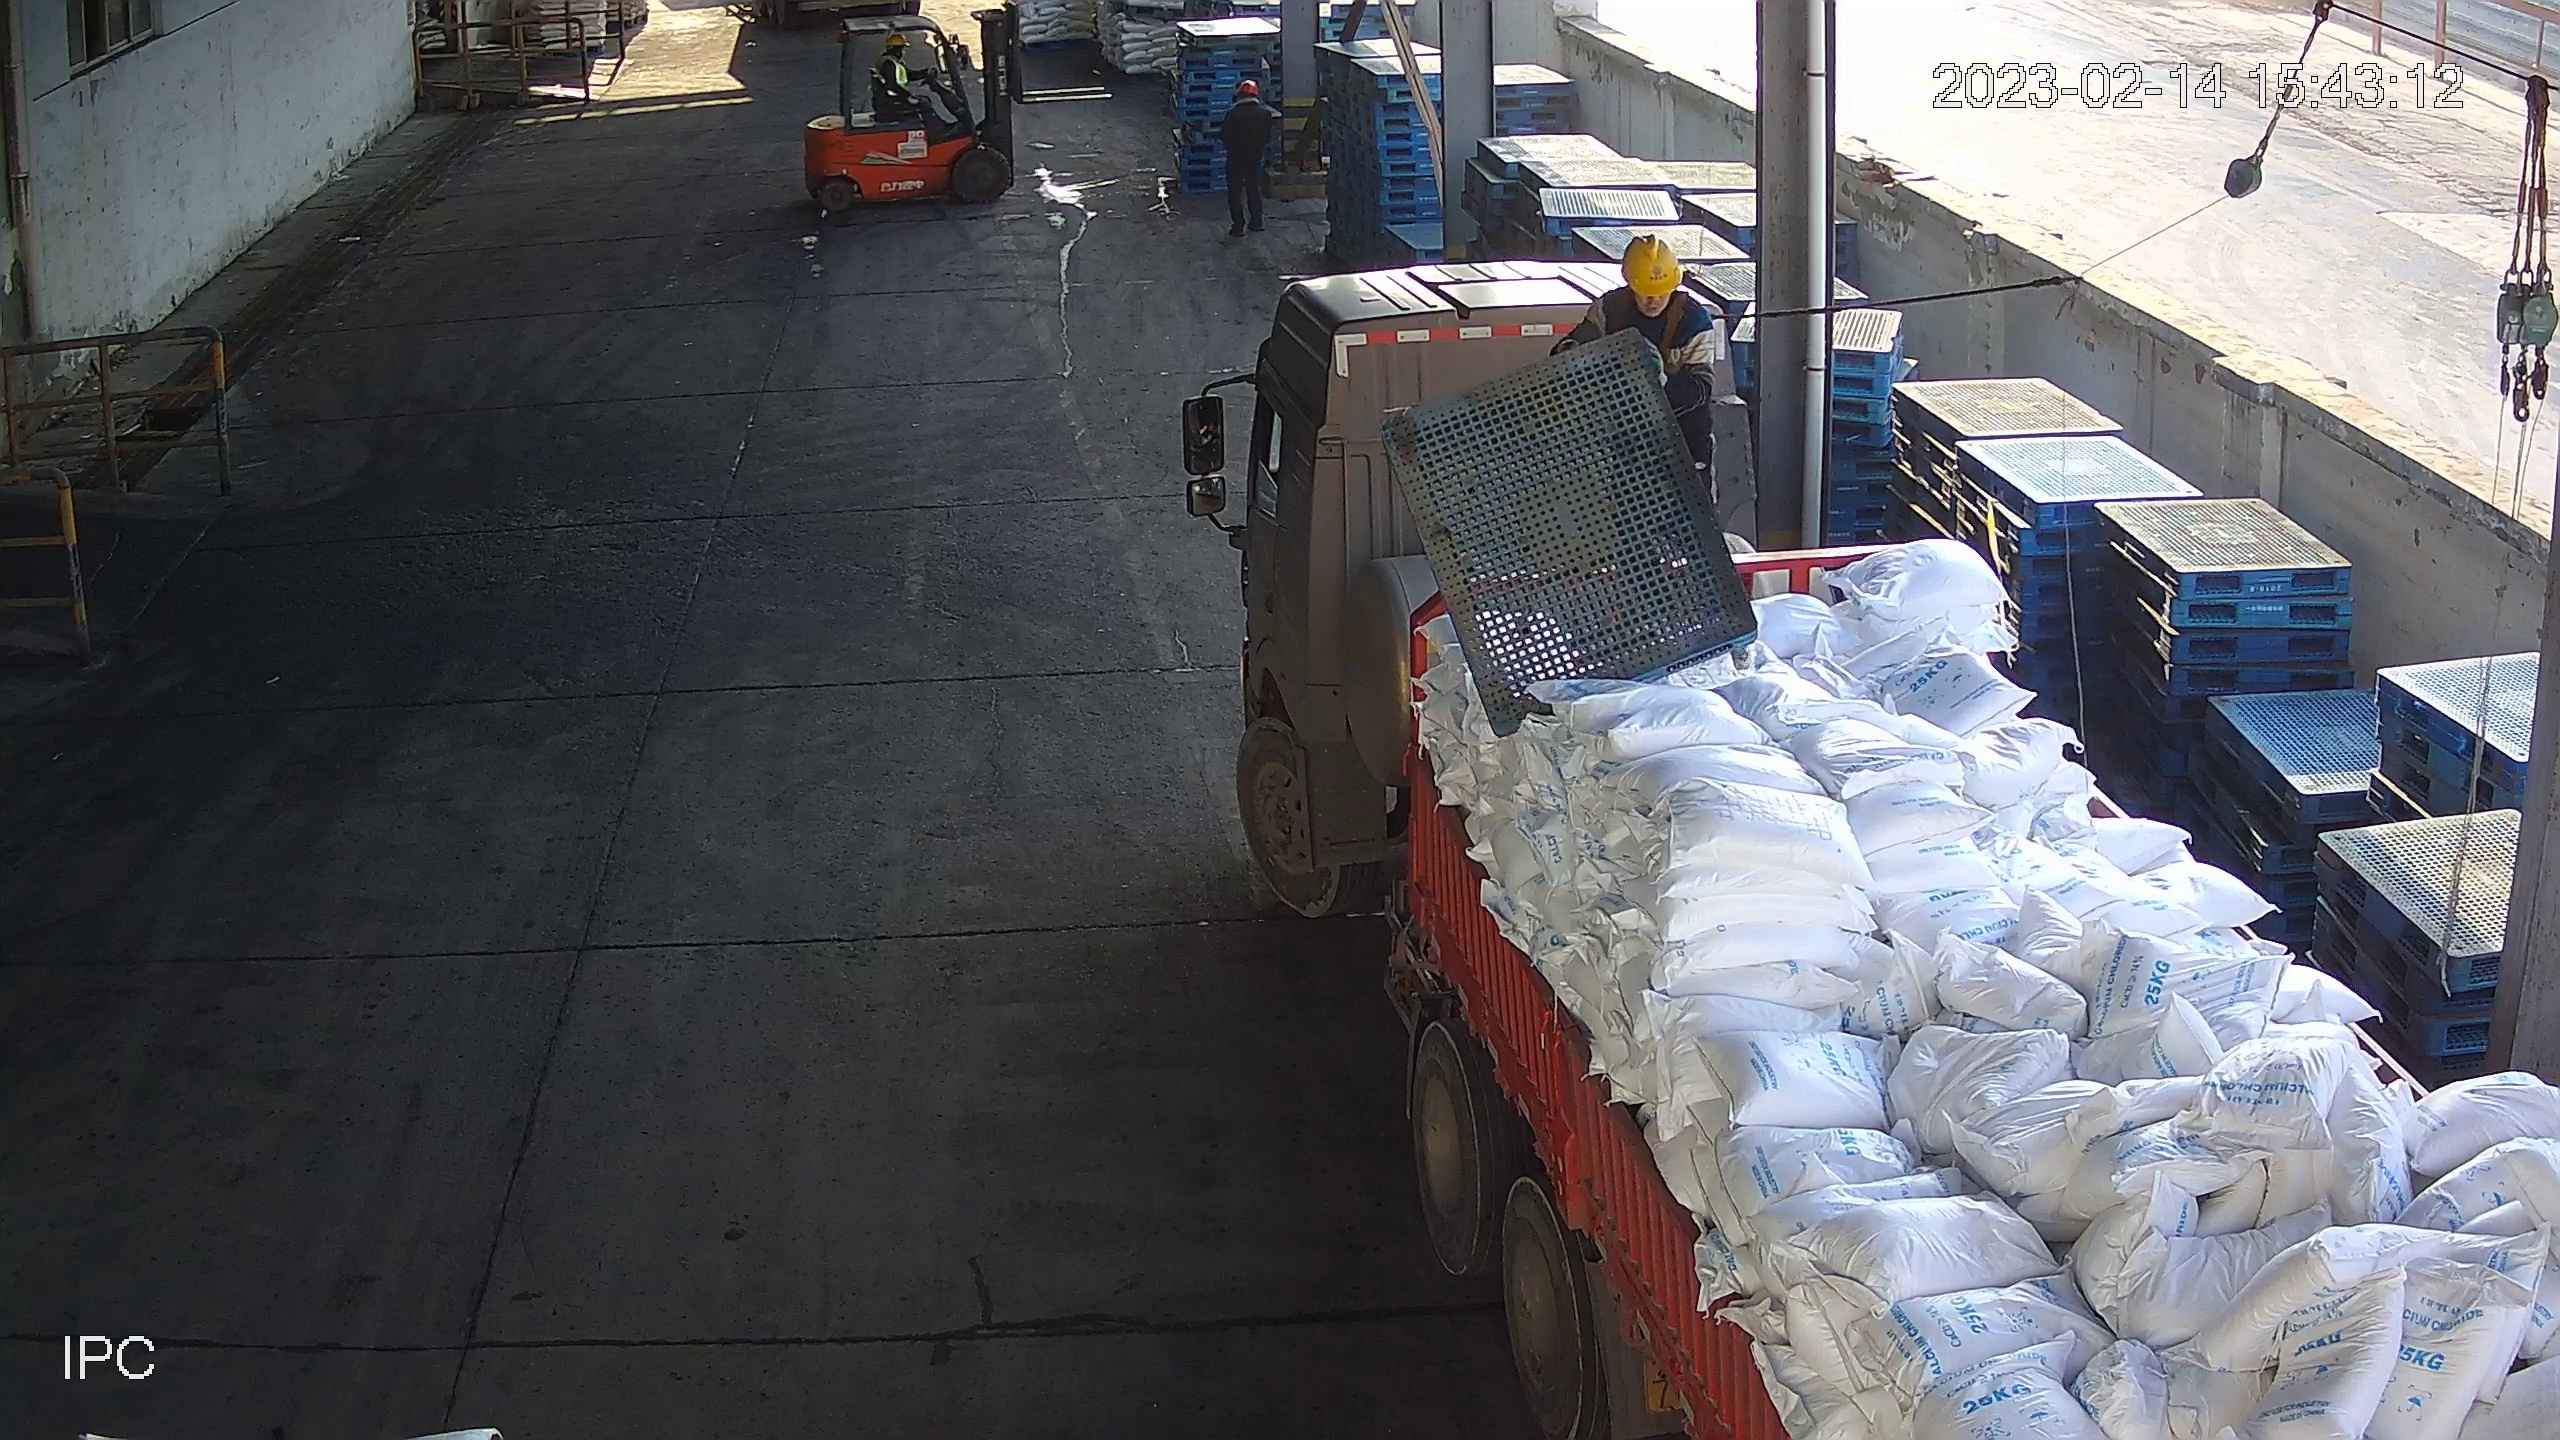belt: (1616, 306, 1686, 358)
head: (1599, 237, 1713, 341), (876, 36, 927, 79), (1230, 79, 1267, 118)
helmet: (1618, 237, 1688, 293), (883, 34, 906, 53), (1239, 78, 1256, 97)
people: (1563, 232, 1721, 655), (1213, 79, 1272, 237), (867, 32, 948, 127)
truck: (1200, 229, 2560, 1440)
